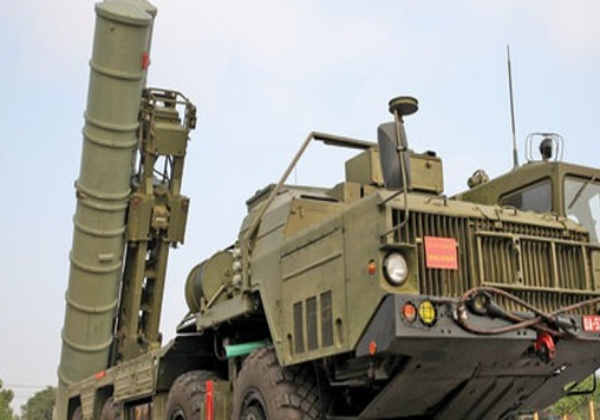plate: (579, 315, 599, 329)
